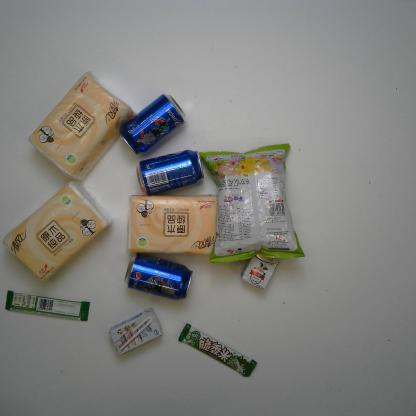Chocolate: (171, 317, 261, 385), (4, 290, 88, 323)
Drink: (122, 93, 187, 148), (124, 255, 194, 298), (136, 150, 204, 194)
Milk: (111, 308, 162, 352), (239, 244, 284, 288)
Puffed Food: (200, 144, 304, 267)
Tissue: (29, 73, 133, 181), (3, 183, 109, 284), (126, 192, 222, 256)
